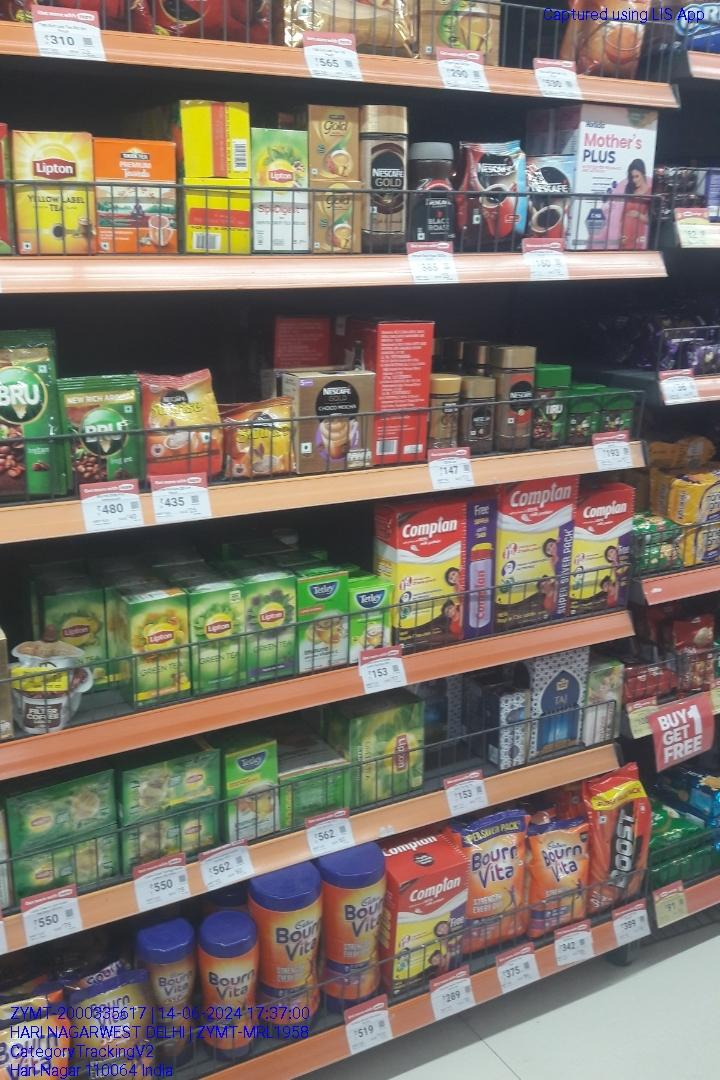BOURN_VITA_1_KG_JAR: (255, 889, 319, 1038), (324, 856, 384, 1004)
BOURN_VITA_1_KG_POUCH: (467, 818, 527, 952)
BOURN_VITA_500_G_JAR: (201, 930, 257, 1059)
BOURN_VITA_750_G_POUCH: (528, 817, 589, 938)
COMPLAN_CHOCOLATE_1_KG_PACK: (499, 482, 572, 627)
COMPLAN_CHOCOLATE_200_GMS_PACK: (572, 492, 635, 617)
COMPLAN_CHOCOLATE_500_GMS_PACK: (394, 508, 495, 651), (397, 867, 467, 986)
